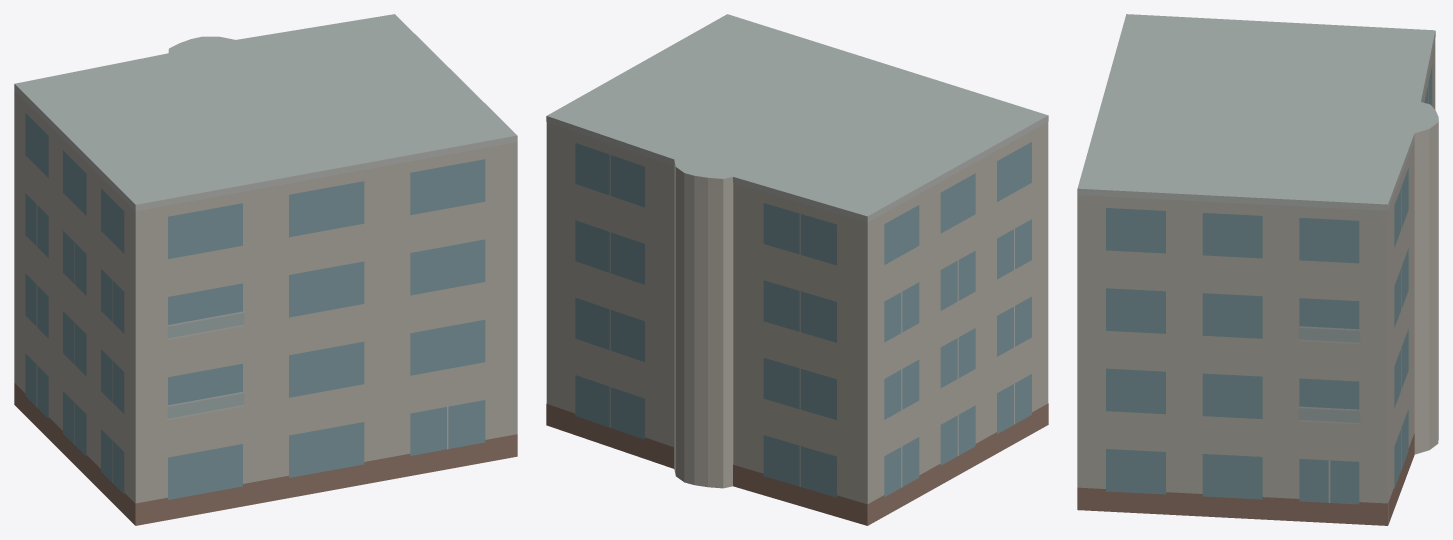
Rendered from survey-upis-32703003.glb.
The picture shows the model from 3 angles, left to right: view 1: azimuth 30°, elevation 25°; view 2: azimuth 150°, elevation 25°; view 3: azimuth 270°, elevation 25°; orthographic projection. The views are drawn at different scales.
Visible parts, largest first — view 1: survey-upis-32703003.tmp; view 2: survey-upis-32703003.tmp; view 3: survey-upis-32703003.tmp.
Part boxes in pixels (x1,y1,x2,y2): survey-upis-32703003.tmp: (14, 14, 517, 525); survey-upis-32703003.tmp: (546, 14, 1048, 525); survey-upis-32703003.tmp: (1077, 14, 1438, 525).
Size of the model in its own units: 15.52 by 12.2 by 12.43.
